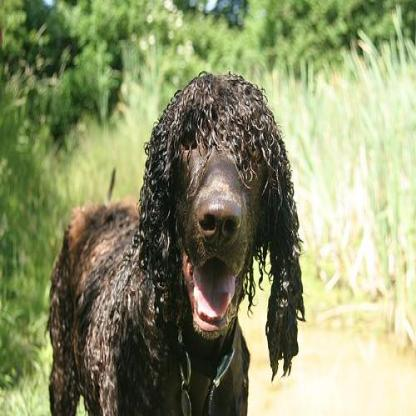Irish_water_spaniel: (43, 69, 306, 414)
